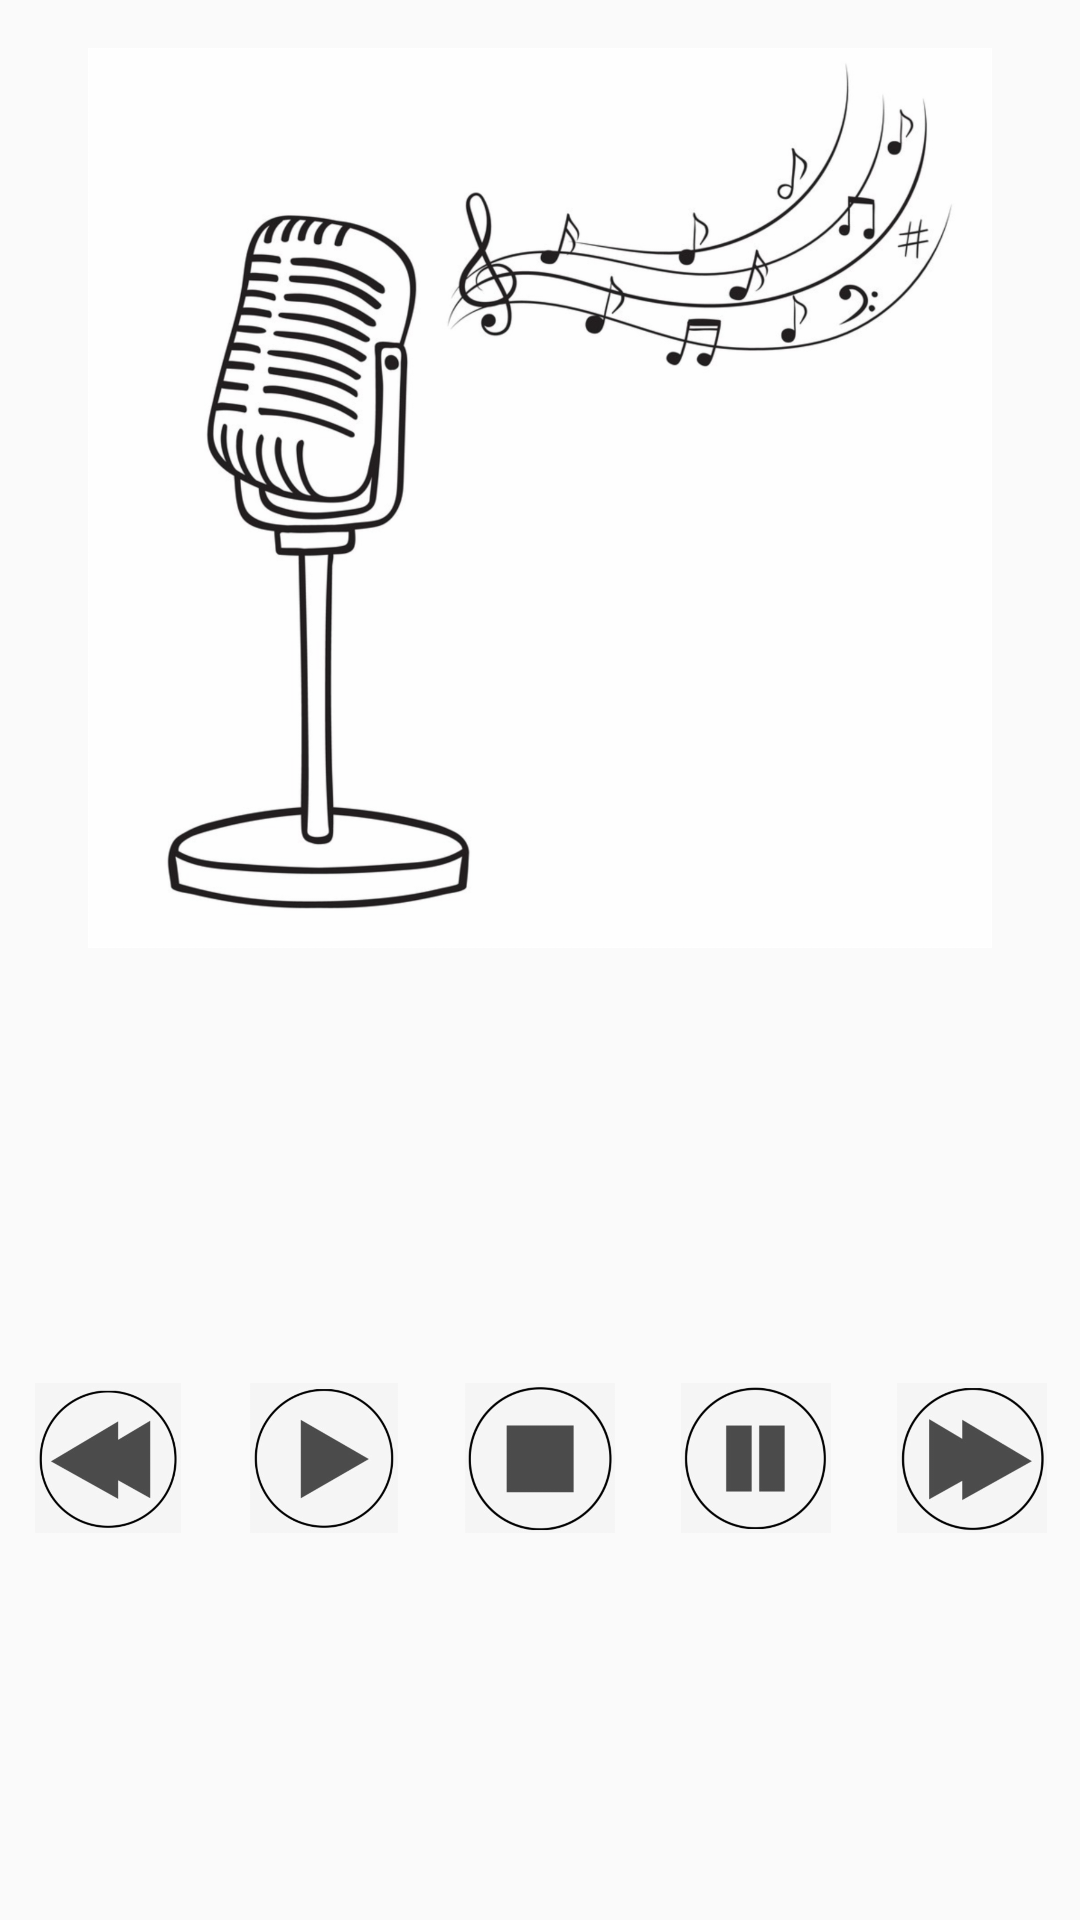

Icons on this 1080 × 1920 Android screen, each with its box as (x1=x1, y1=y1, x2=x2, y2=y2):
left: (x1=39, y1=1390, x2=177, y2=1528)
pause: (x1=684, y1=1387, x2=826, y2=1529)
play: (x1=254, y1=1389, x2=394, y2=1528)
right: (x1=901, y1=1388, x2=1044, y2=1530)
stop: (x1=468, y1=1387, x2=612, y2=1530)
